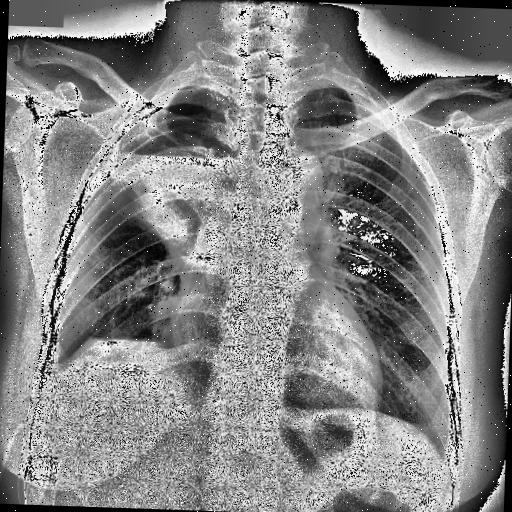0- Aortic enlargement: (266, 146, 328, 211)
1- Atelectasis: (111, 148, 230, 252)
10- Pleural effusion: (35, 325, 67, 404), (37, 354, 66, 394)
11- Pleural thickening: (35, 325, 67, 404), (37, 354, 66, 394), (44, 357, 62, 382)
12- Pneumothorax: (120, 89, 230, 158)
3- Cardiomegaly: (167, 280, 388, 413), (154, 300, 391, 412), (168, 315, 384, 414)
4- Consolidation: (98, 150, 236, 256), (62, 333, 176, 382)
7- Lung Opacity: (104, 150, 234, 262)
